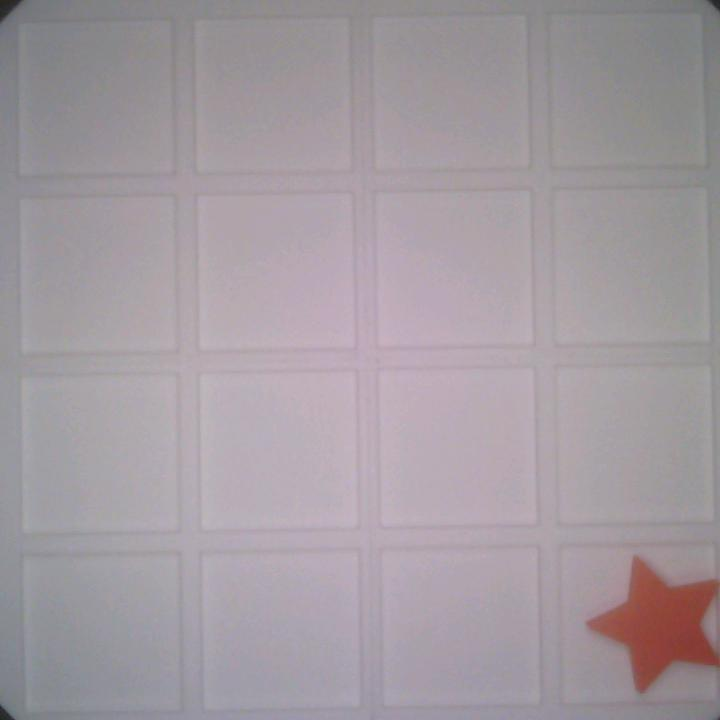Orange star: (584, 555, 720, 704)
